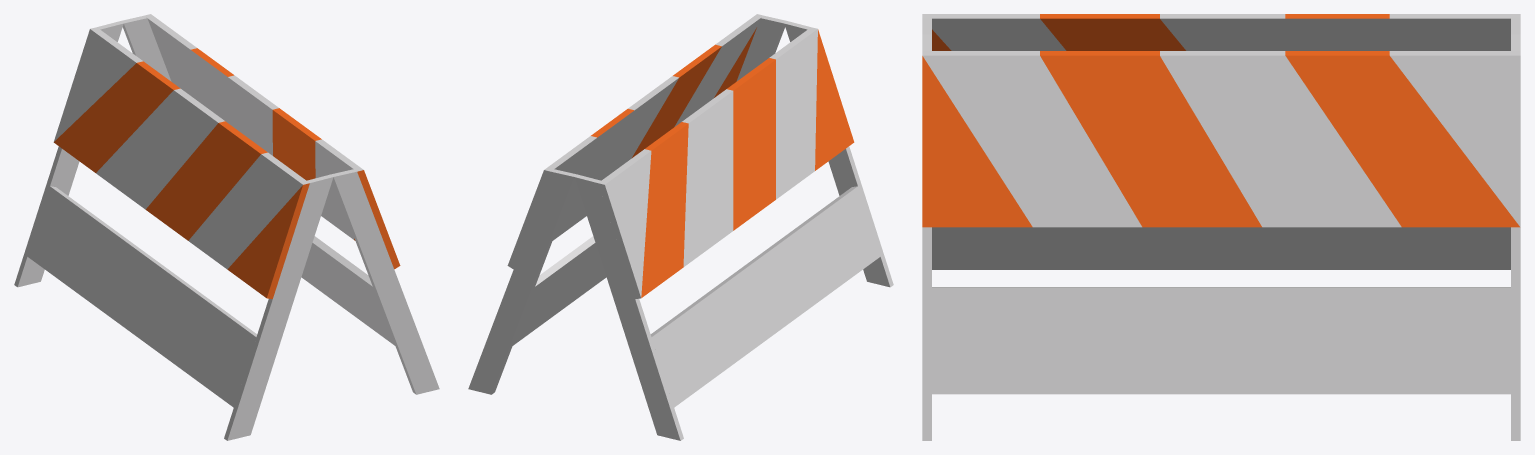
File: SM_Factory_Construction_site_barrier.glb
The picture shows the model from 3 angles, left to right: view 1: azimuth 30°, elevation 25°; view 2: azimuth 150°, elevation 25°; view 3: azimuth 270°, elevation 25°; orthographic projection. The views are drawn at different scales.
Visible parts, largest first — view 1: SM_Factory_Construction_site_barrier; view 2: SM_Factory_Construction_site_barrier; view 3: SM_Factory_Construction_site_barrier.
Boxes of the visible parts, box(x1,y1,x2,y2) form: SM_Factory_Construction_site_barrier: box(14, 14, 439, 440); SM_Factory_Construction_site_barrier: box(468, 14, 893, 440); SM_Factory_Construction_site_barrier: box(922, 14, 1520, 440).
Bounding box in the file's own units: 0.8633 × 0.9243 × 1.5.
Materials: 1 (1 with a texture image).
